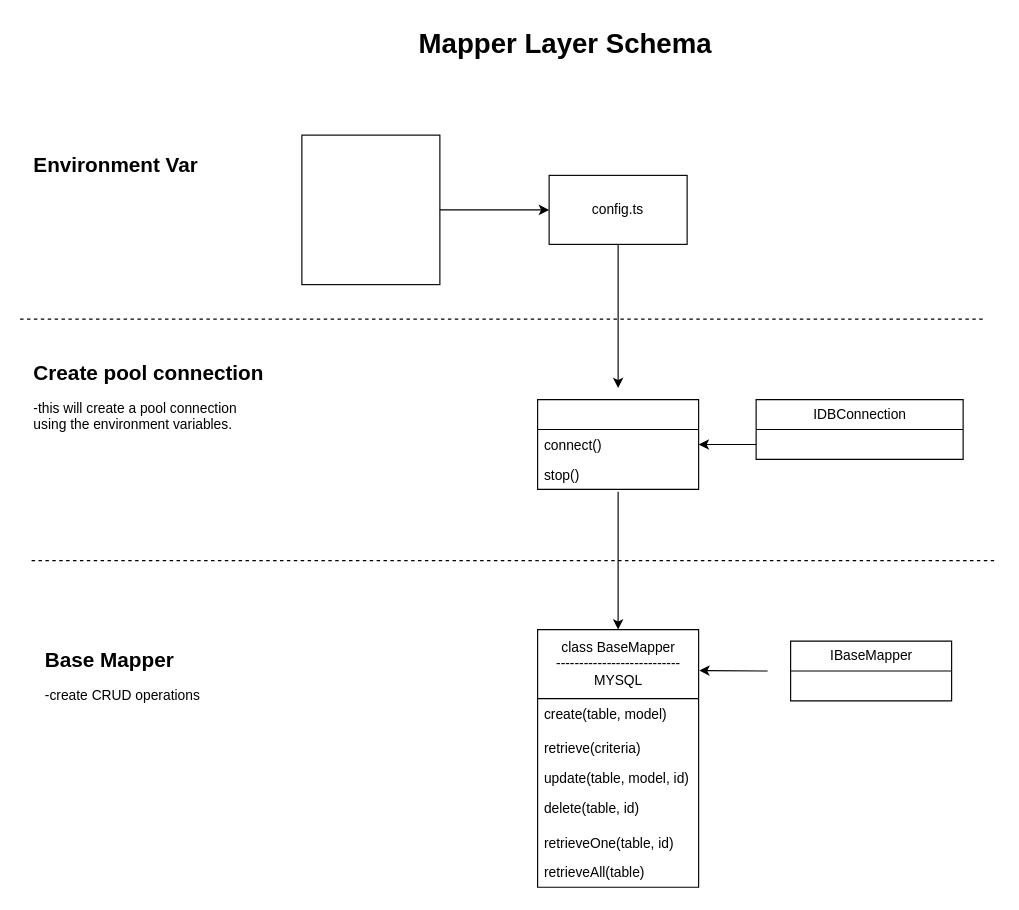
Some shapes in this 1019 by 910 pixel diagram are drawn without their labels. Here are the shapes that lost their labels. From the top down, the box of each, then its label:
(301, 134, 440, 285): .env DB config var: connectionLimit host user pass database
(536, 398, 699, 489): class MYSQL
